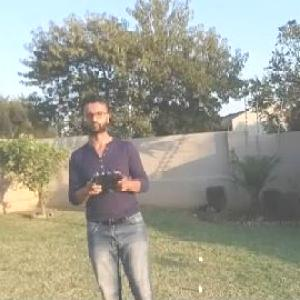follow: (66, 87, 162, 299)
